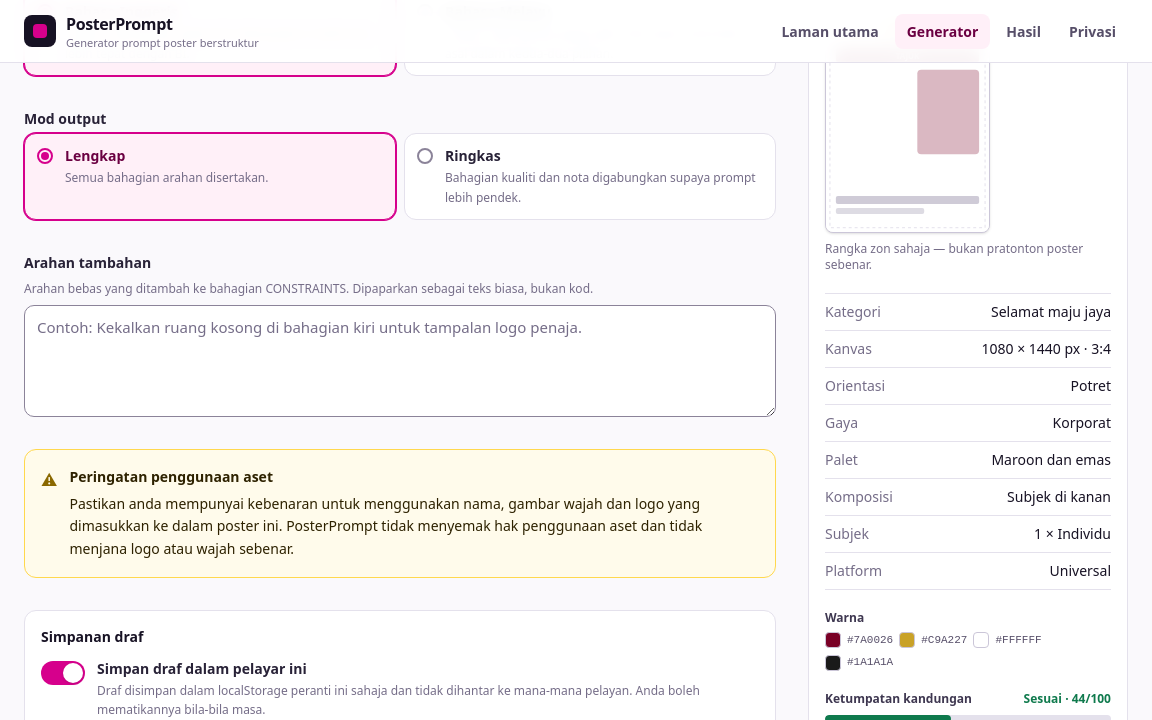
Test: peringatan dan penunjuk pada langkah akhir › memberitahu apabila tulisan draf ditolak, bukan mendakwa ia disimpan (§11.1)
The image size is (1152, 720).
(page scrolled)
In the text box labelled "Arahan tambahan": {"x": 400, "y": 361} [24,305,776,417], type "x"
(page scrolled)
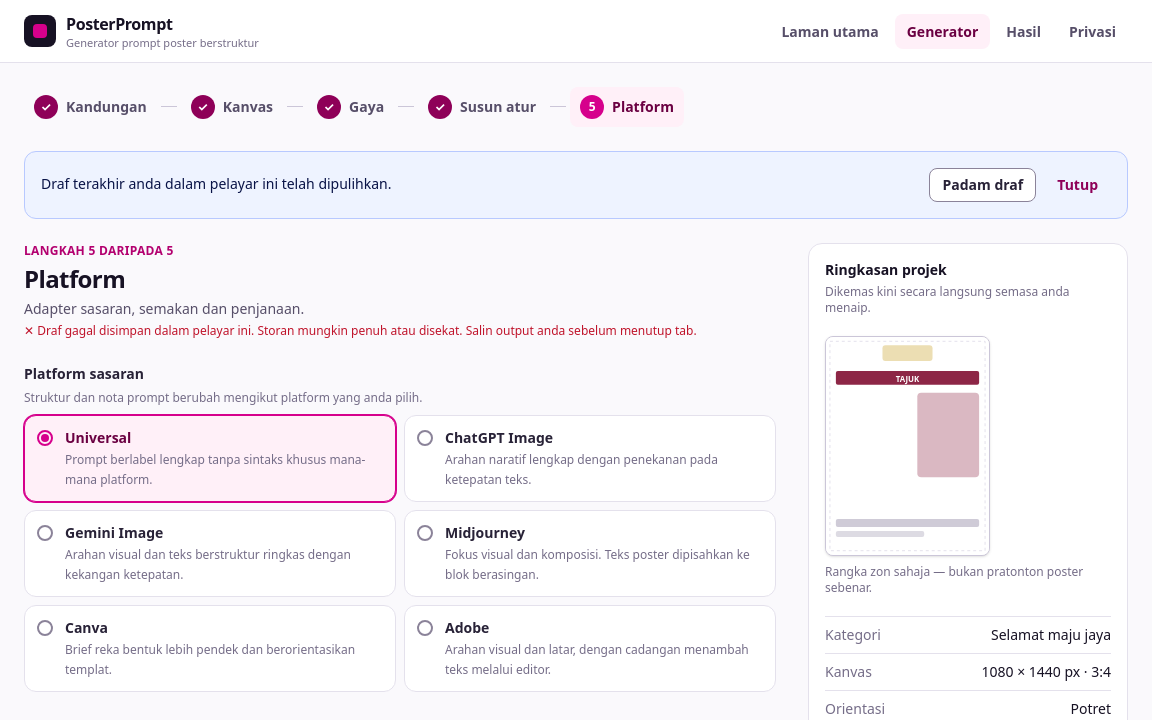
expect the text "Draf gagal disimpan dalam pelayar ini" is shown: met, box [34,322,697,339]
